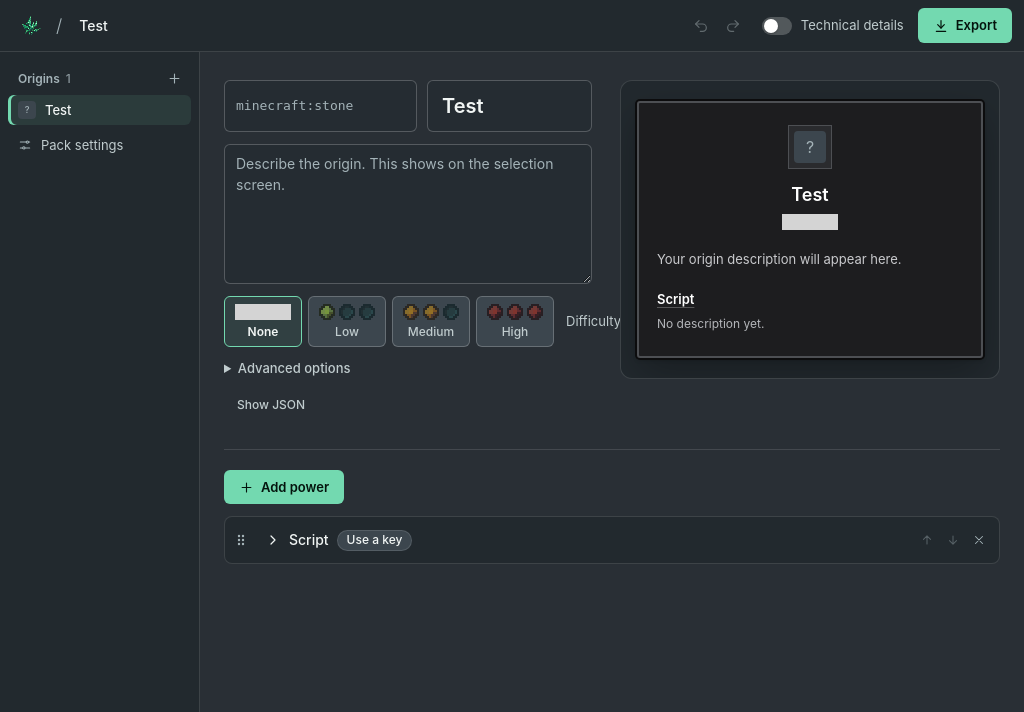
Test: shows optional fields after opening advanced sections once
Click the button "Script Use a key" at (309, 540), box [259,526,907,555]
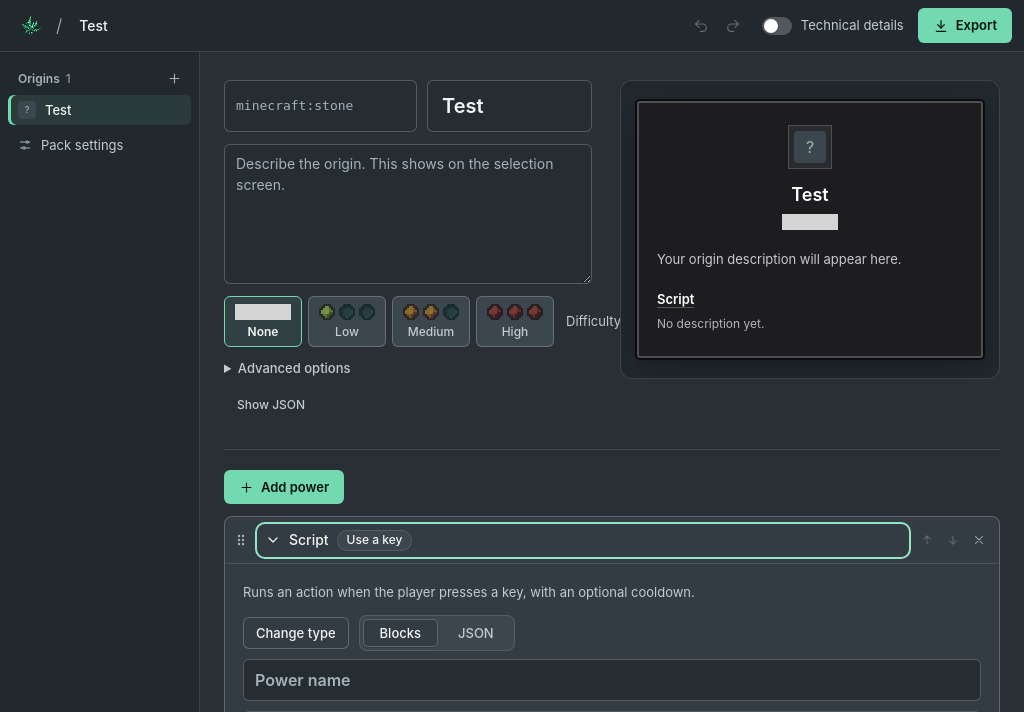
Click the heading "Advanced options" at (287, 369), box [224,359,350,378]
(page scrolled)
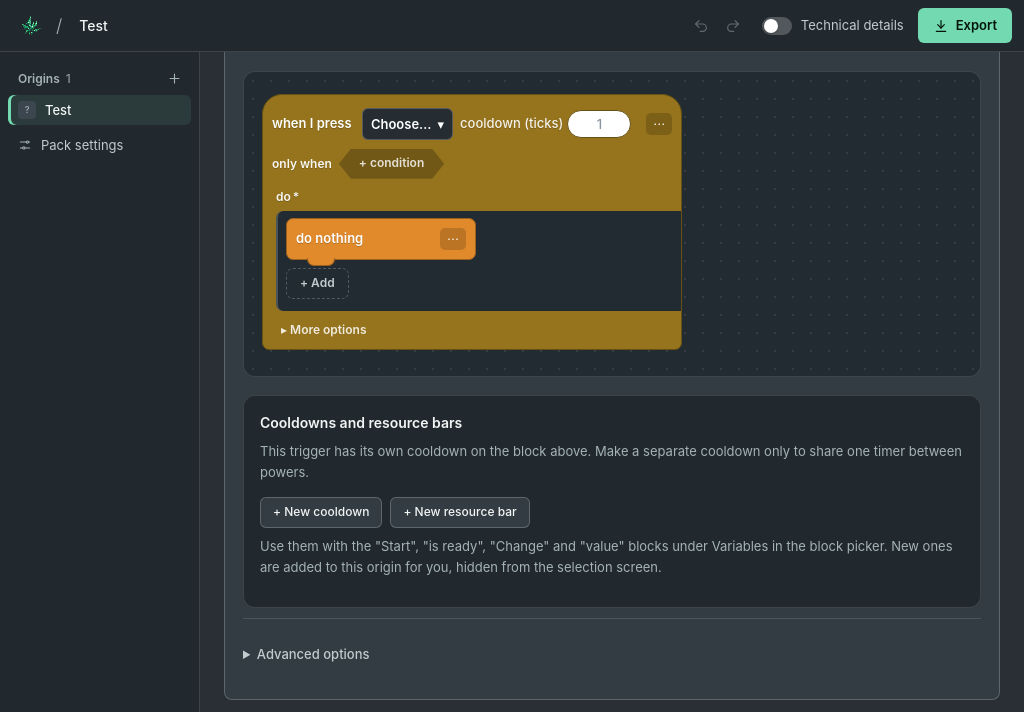
Click the heading "Advanced options" at (306, 655), box [243,645,370,665]
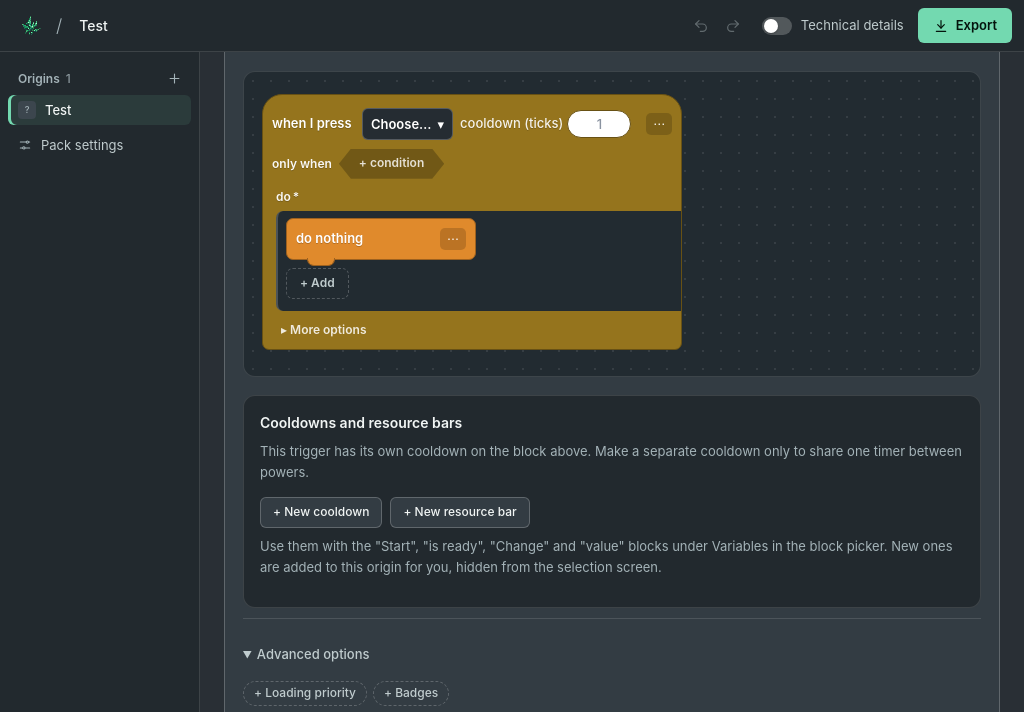
Result: the element with class "blk-drawer" is shown
Result: the button "+ Loading priority" is shown at [243,681,367,706]
Click the button "▸ More options" at (324, 330), box [271,319,376,342]
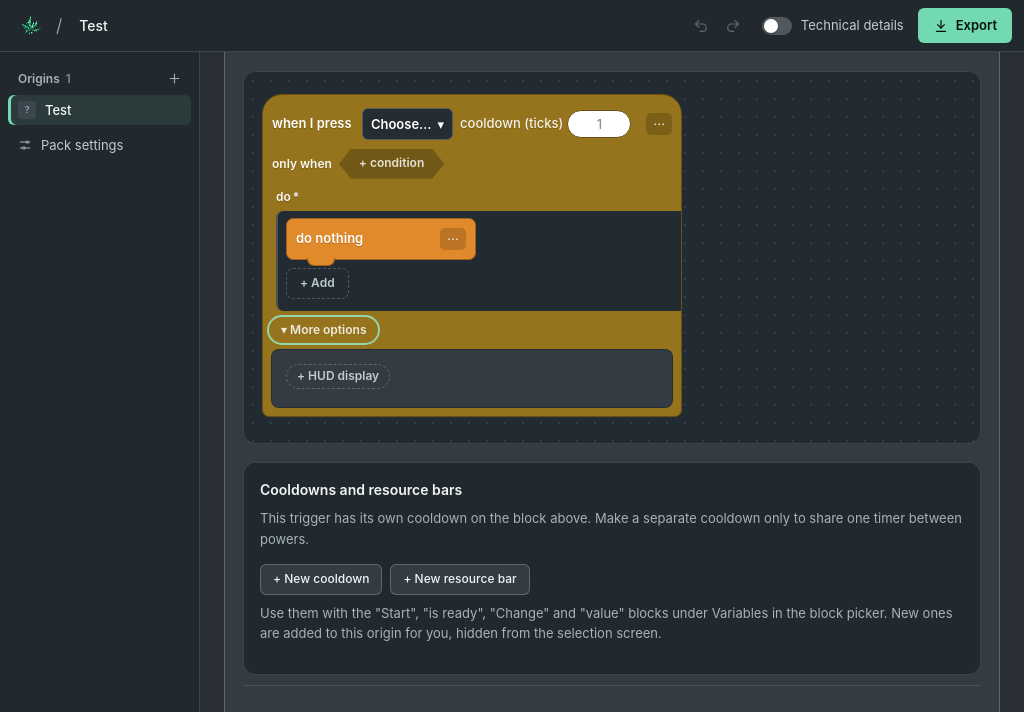
Result: the button "+ HUD display" is shown at [286,364,390,389]
